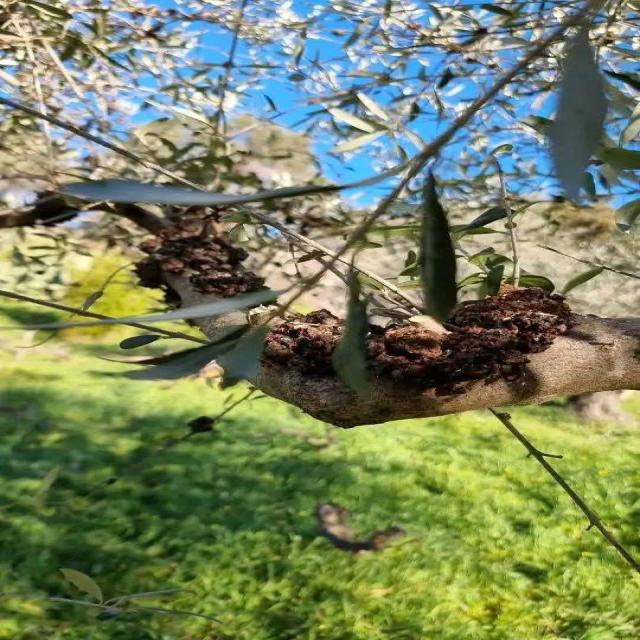Tuberculosis: (367, 286, 575, 396), (115, 205, 268, 308), (260, 309, 343, 378)
